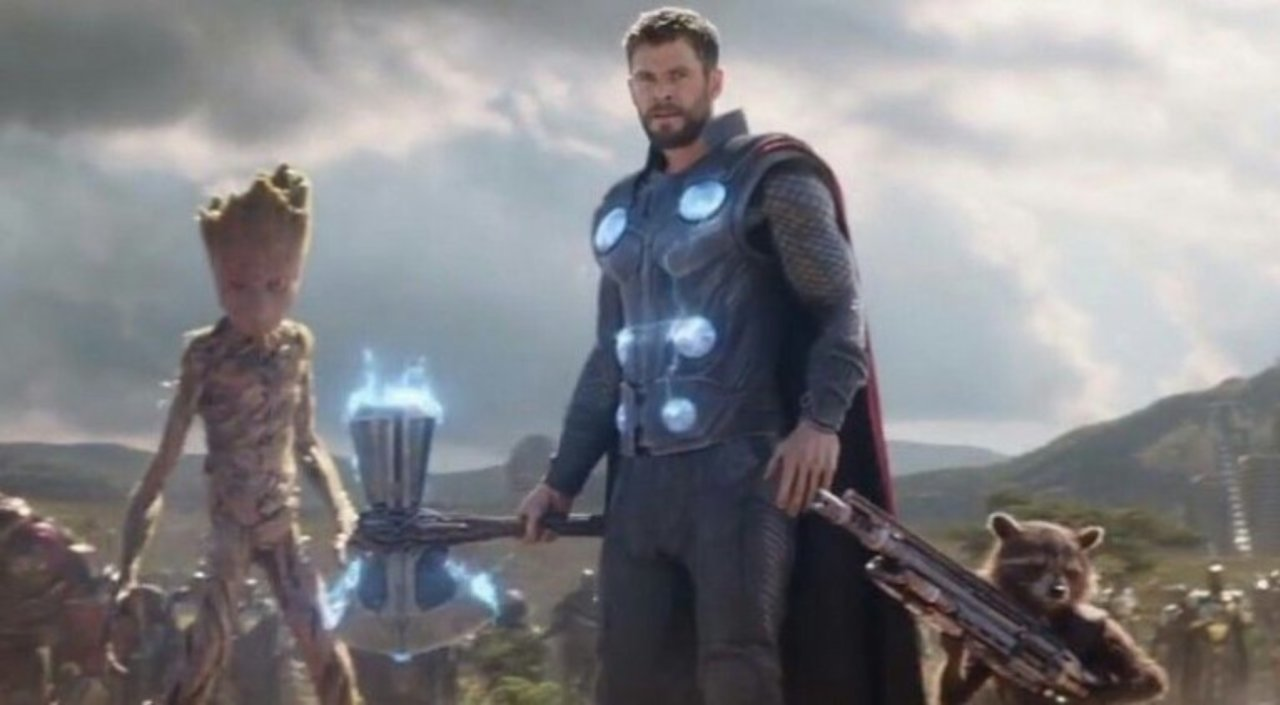THOR Hammer: (325, 381, 621, 657)
